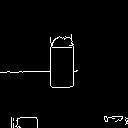cube: (45, 39, 84, 94)
